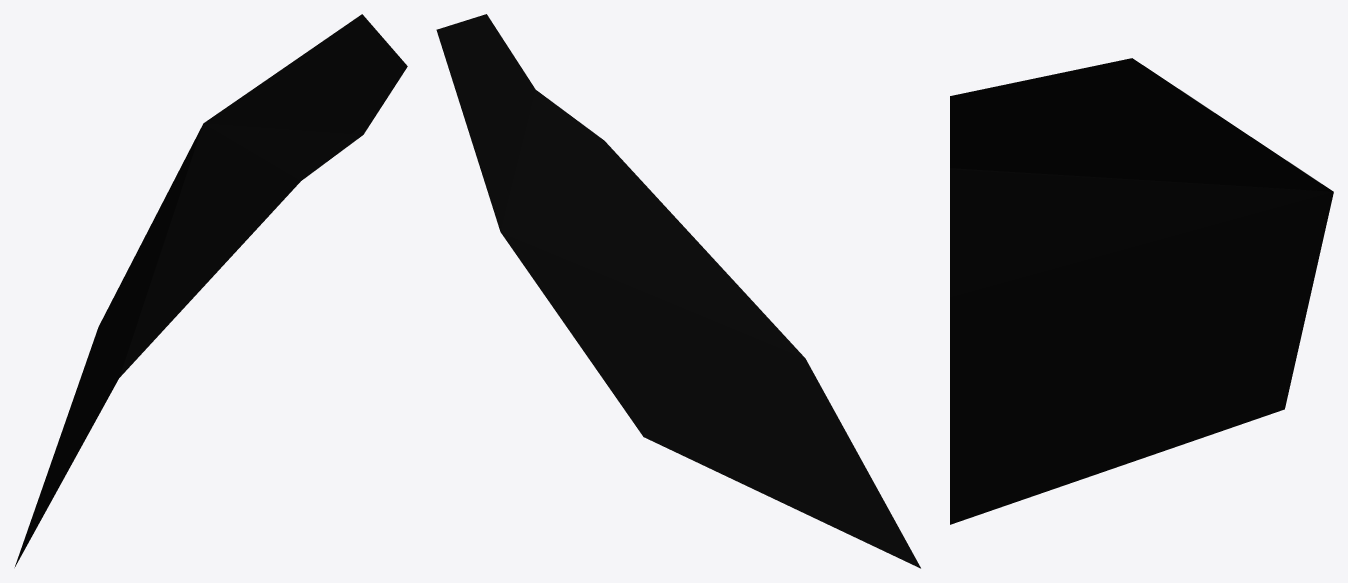
3 views of the same model, side by side, from view 1: azimuth 30°, elevation 25°; view 2: azimuth 150°, elevation 25°; view 3: azimuth 270°, elevation 25° (orthographic). The views are drawn at different scales.
Bounding box in the file's own units: 3.33 × 3.44 × 1.4.
1 material, 1 textured.
